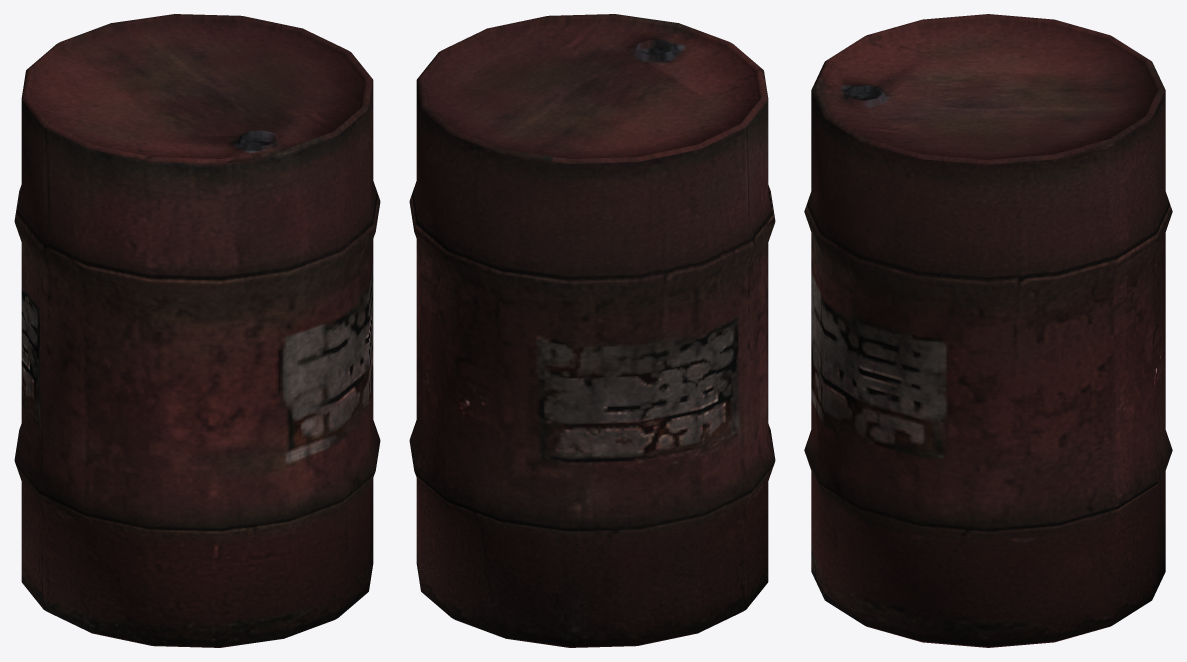
File: metal_barrel_3.fbx
The picture shows the model from 3 angles, left to right: view 1: azimuth 30°, elevation 25°; view 2: azimuth 150°, elevation 25°; view 3: azimuth 270°, elevation 25°; orthographic projection.
Parts seen in each view (by area): view 1: metal_barrel_3; view 2: metal_barrel_3; view 3: metal_barrel_3.
Part boxes in pixels (<box>): metal_barrel_3: <box>14,14,380,647</box>; metal_barrel_3: <box>409,14,775,647</box>; metal_barrel_3: <box>804,14,1172,647</box>.
Bounding box in the file's own units: 74.88 × 109 × 74.88.
